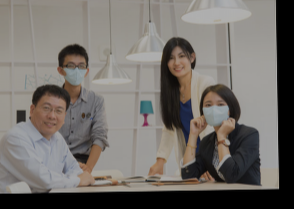with_mask: (202, 97, 231, 128), (60, 58, 89, 87)
without_mask: (33, 98, 68, 135), (168, 50, 192, 77)
